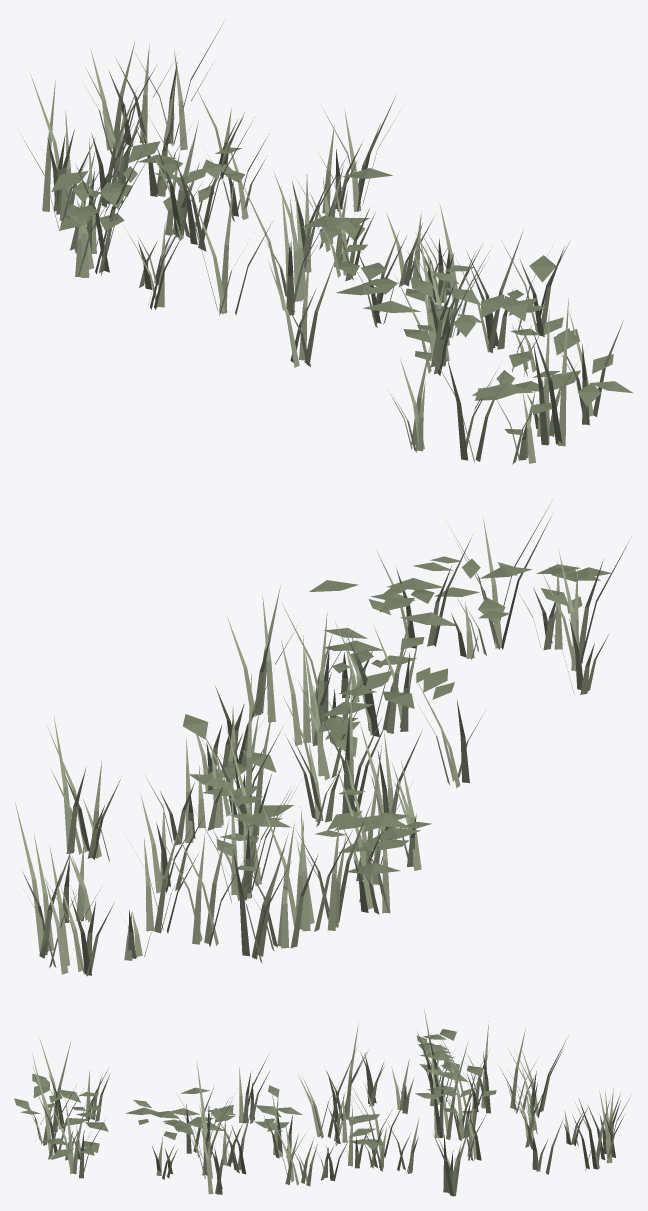
File: AE_Encroachment_04.fbx
3 renders of one model, top to bottom at view 1: azimuth 30°, elevation 25°; view 2: azimuth 150°, elevation 25°; view 3: azimuth 270°, elevation 25°, orthographic. The views are drawn at different scales.
Visible parts, largest first — view 1: AE_Encroachment_04_LOD0; view 2: AE_Encroachment_04_LOD0; view 3: AE_Encroachment_04_LOD0.
Part boxes in pixels (left/top/right/bottom): AE_Encroachment_04_LOD0: left=20, top=22, right=633, bottom=464; AE_Encroachment_04_LOD0: left=14, top=502, right=631, bottom=976; AE_Encroachment_04_LOD0: left=14, top=1007, right=630, bottom=1196.
Size of what is drawn, in the model's own units: 262 by 105 by 602.
